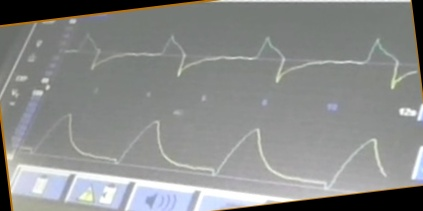Flow: (67, 26, 415, 91)
Leakage Volume: (23, 110, 386, 189)
